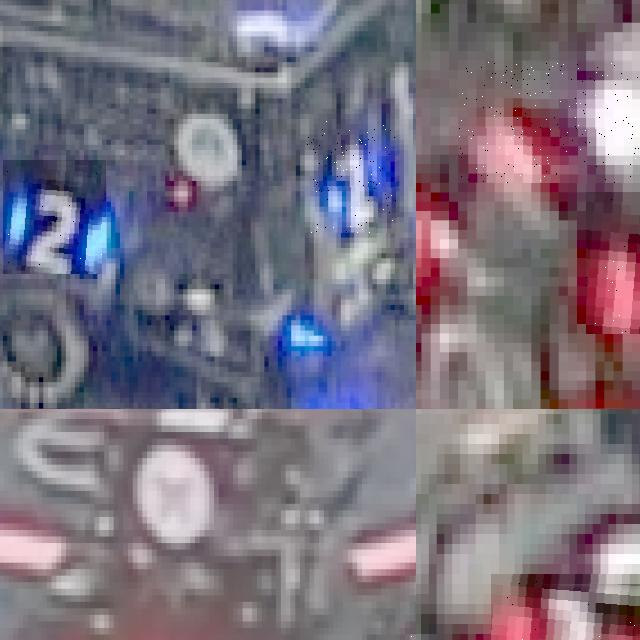B2: (3, 160, 106, 274), (307, 119, 397, 233)
R3: (491, 574, 640, 640)
R4: (458, 60, 640, 182), (586, 192, 640, 333)
